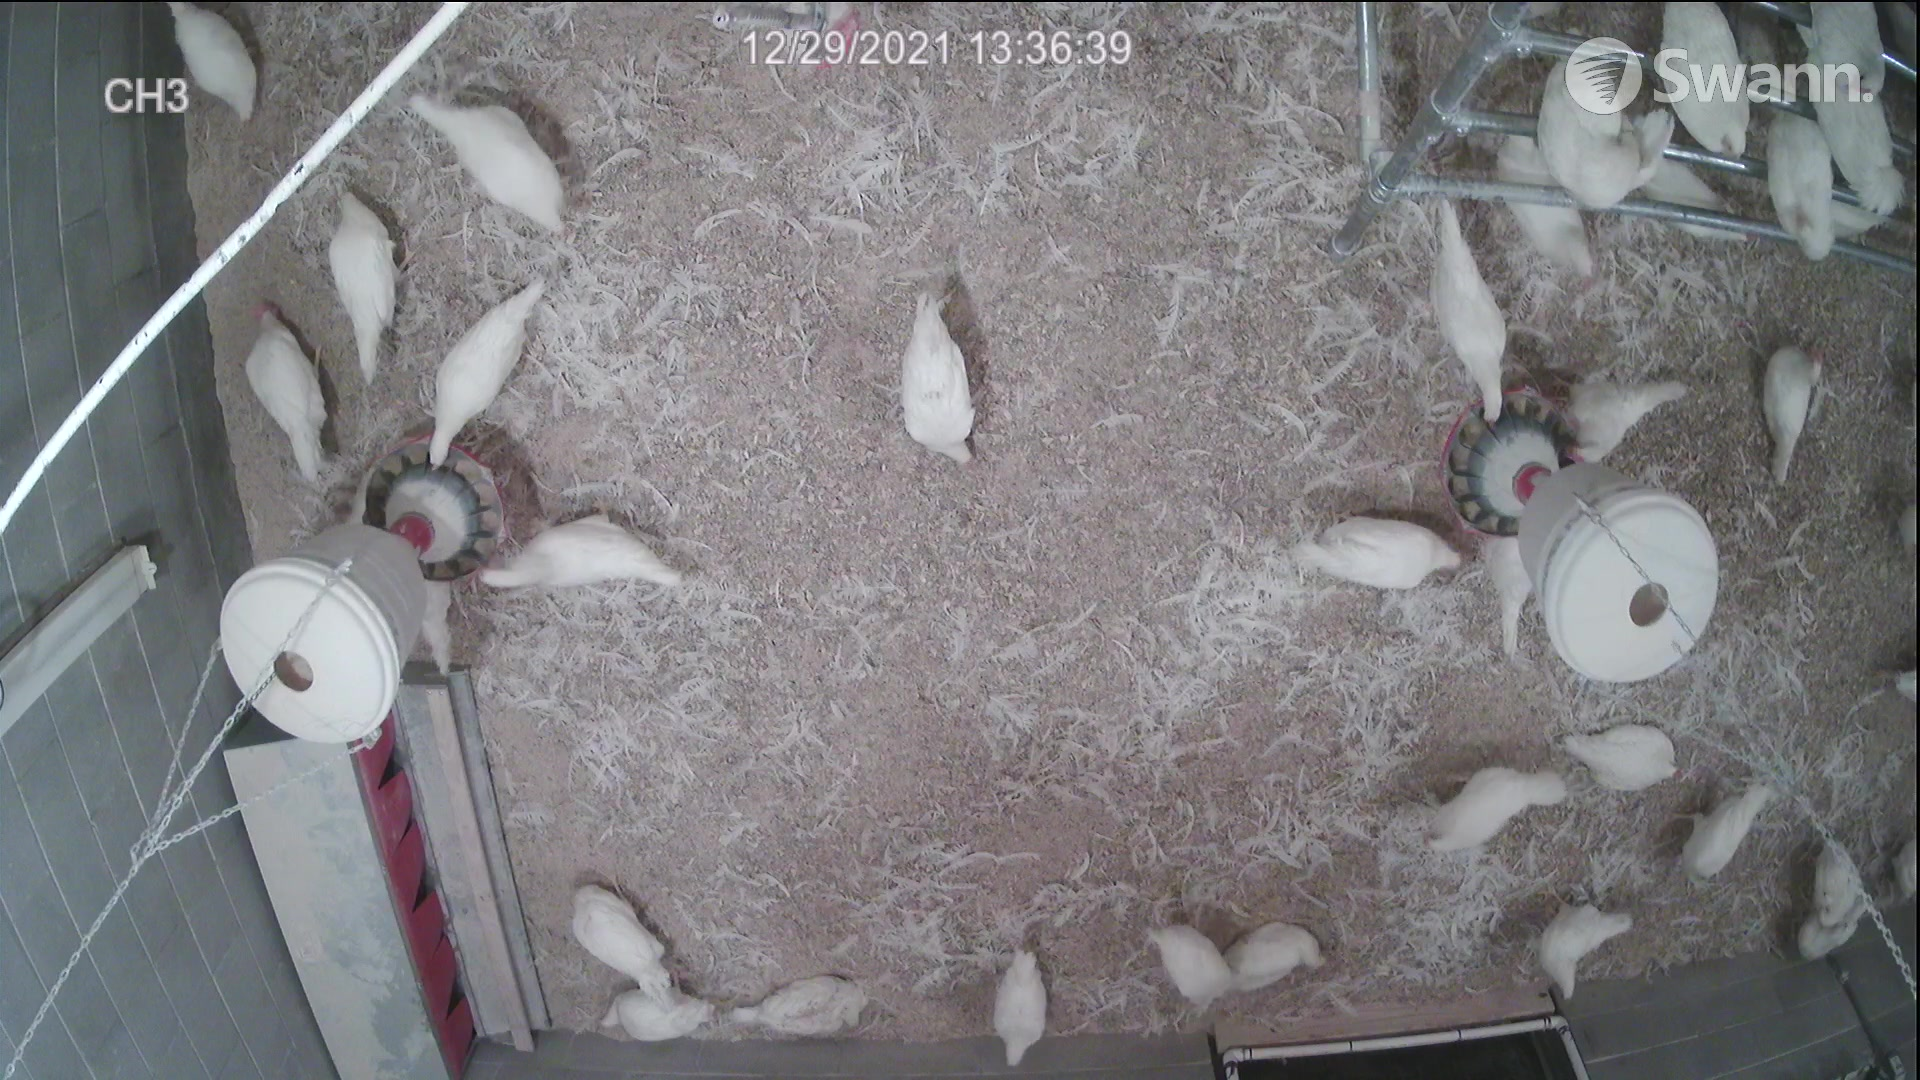Dust Bathing: (731, 960, 885, 1040), (596, 978, 713, 1048)
Feeding: (389, 277, 564, 480), (1422, 193, 1542, 448), (455, 513, 691, 600), (1557, 352, 1702, 476)
Foraging: (414, 83, 579, 237), (890, 281, 996, 476), (316, 182, 401, 377), (251, 301, 338, 472), (1291, 506, 1469, 589), (556, 881, 698, 975)
Perching: (1538, 50, 1673, 200), (1640, 0, 1749, 153), (1734, 109, 1847, 255), (1800, 94, 1903, 223)
